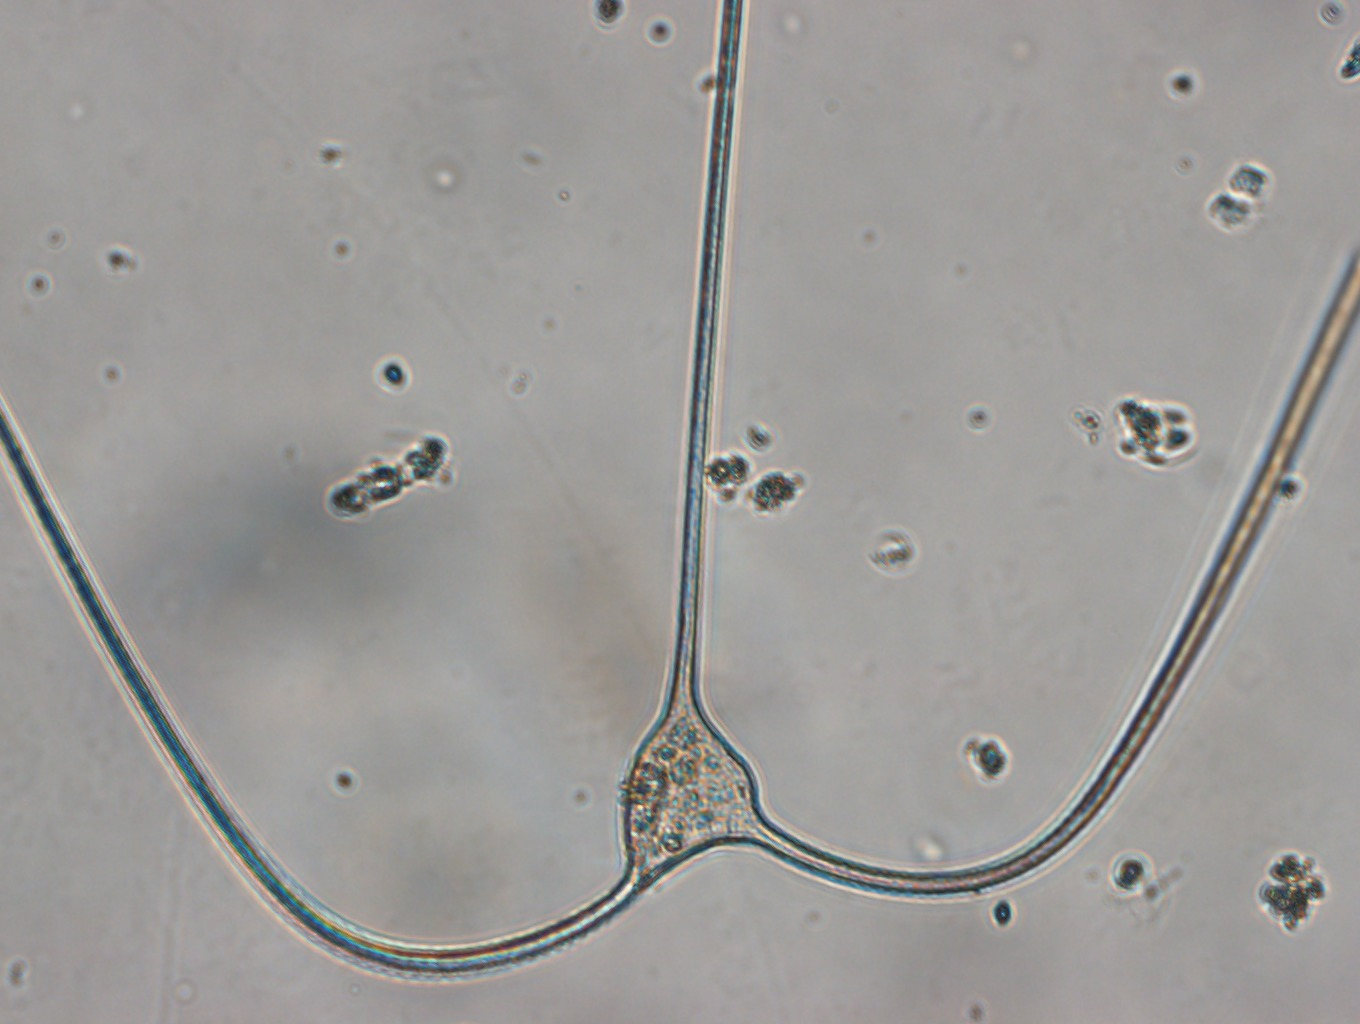ceratium trichoceros: (1, 1, 1360, 983)
